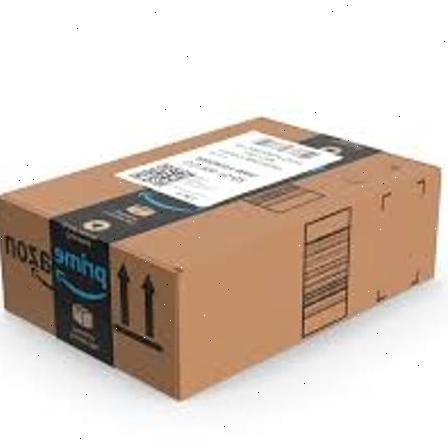Amazon: (1, 111, 444, 408)
